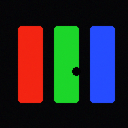0 point: (72, 67, 80, 75)
